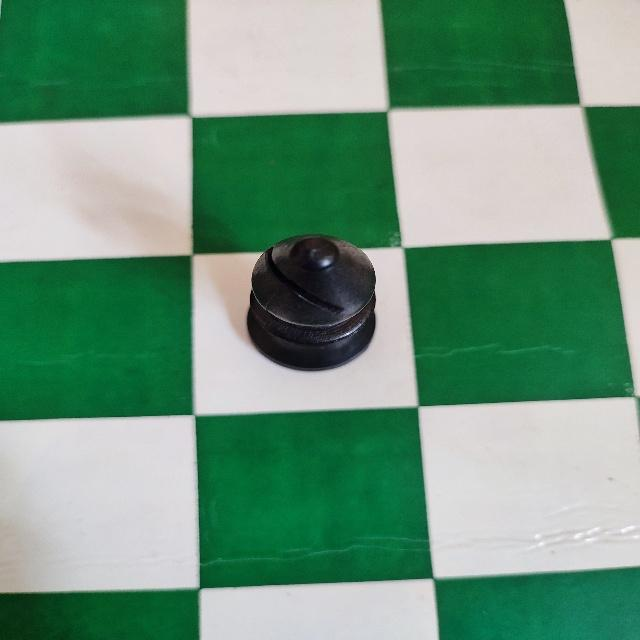Bishop: (245, 231, 382, 373)
